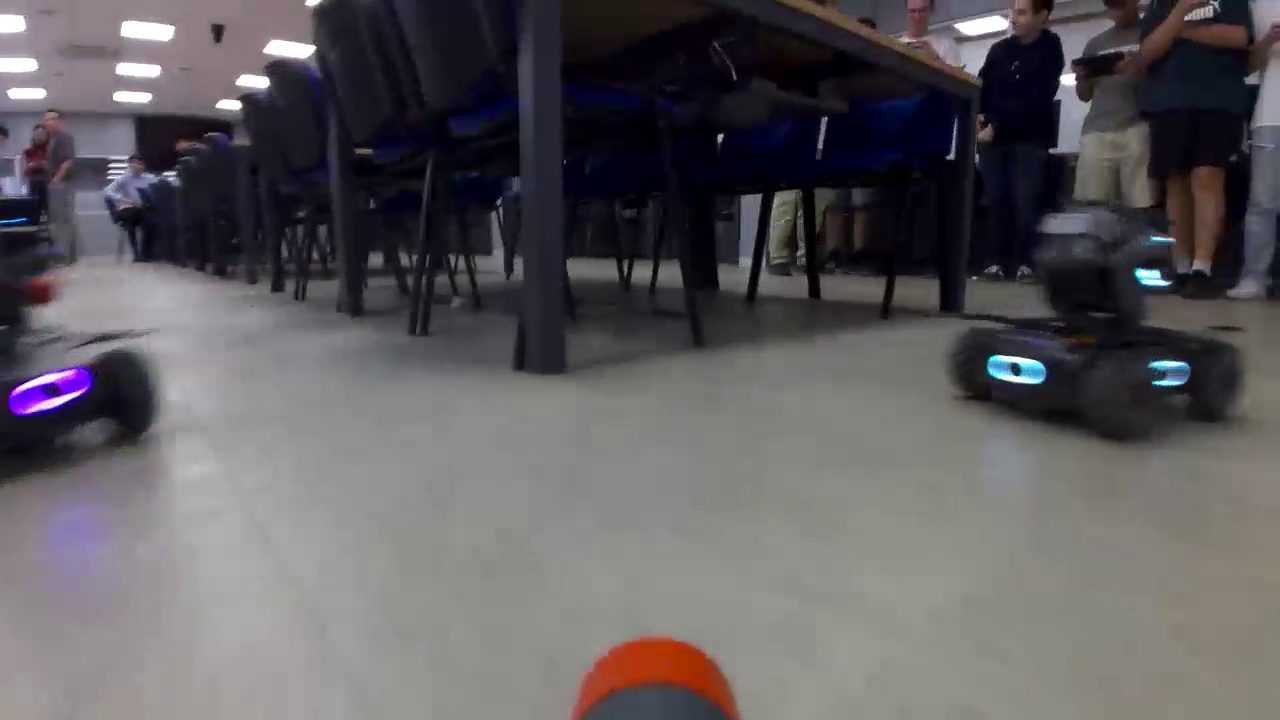robot: (955, 212, 1255, 460), (1, 210, 178, 445)
